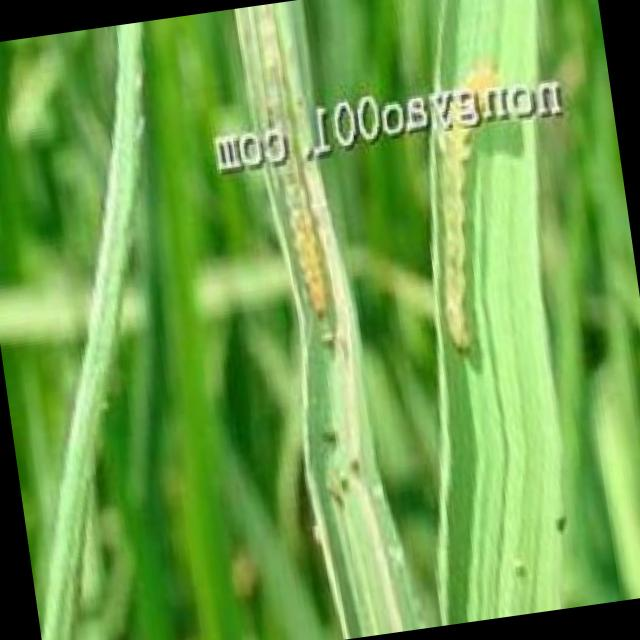leaf-folder: (402, 153, 512, 376), (262, 171, 358, 356)
